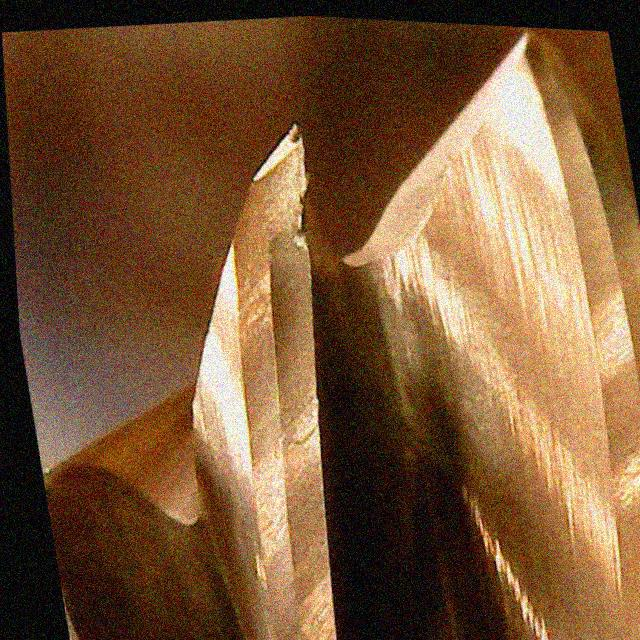Tool-wear-class-1: (187, 114, 355, 437)
